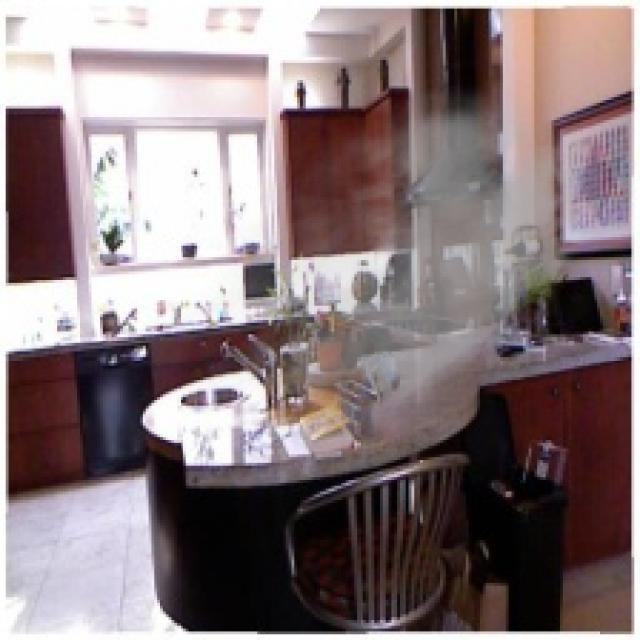Smoke: (183, 69, 603, 452)
